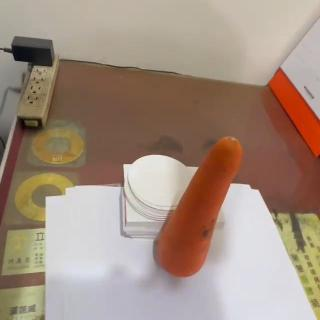carrot: (157, 134, 243, 280)
